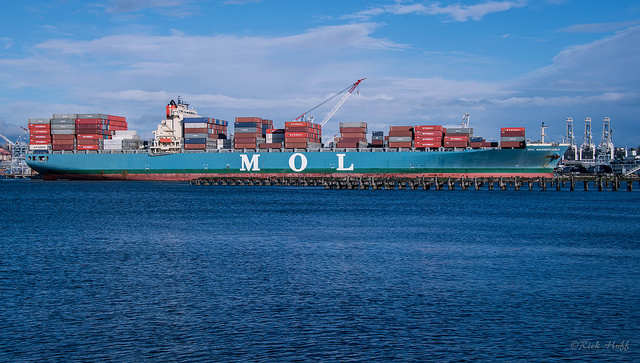container_ship: (25, 103, 565, 176)
